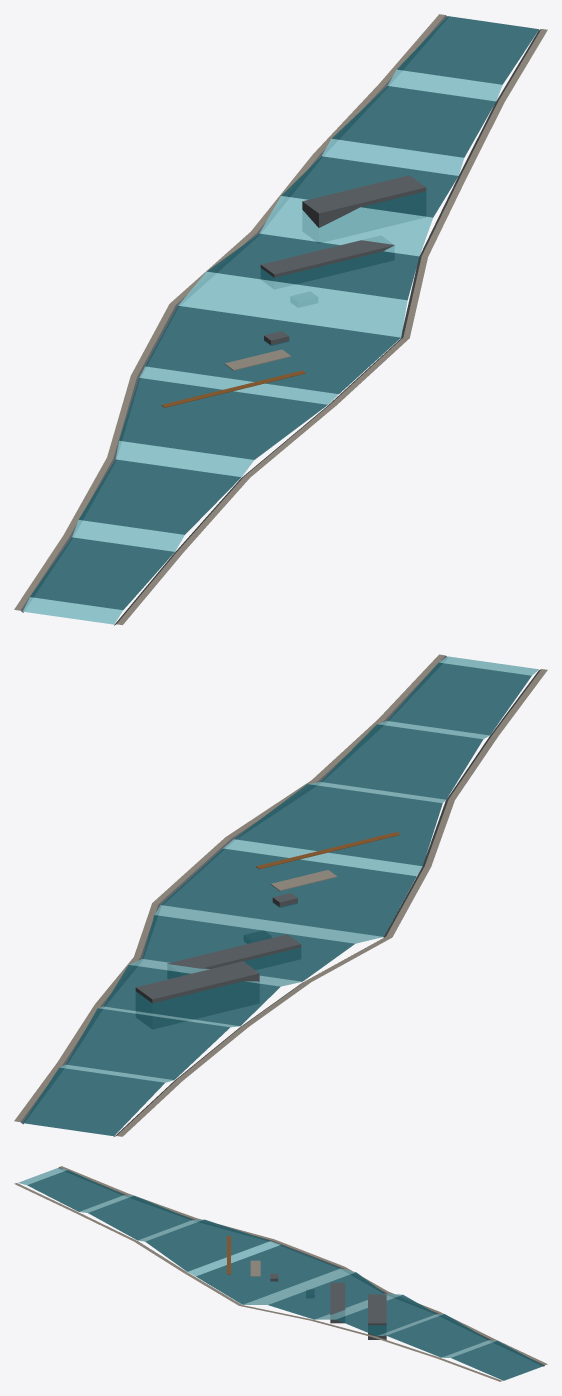
The model's file is water_thac_bao_dai_ta_in.glb.
The picture shows the model from 3 angles, top to bottom: view 1: azimuth 30°, elevation 25°; view 2: azimuth 210°, elevation 25°; view 3: azimuth 270°, elevation 25°; orthographic projection. The views are drawn at different scales.
Parts seen in each view (by area): view 1: water_terraces_water_thac_bao_dai_ta_in, waterfall_curtain_water_thac_bao_dai_ta_in, canyon_walkway_water_thac_bao_dai_ta_in, bao_dai_three_tier_basalt_waterfall_cliff, basalt_canyon_embankments_water_thac_bao_dai_ta_in, bao_dai_middle_amphitheater_stone_ledge; view 2: water_terraces_water_thac_bao_dai_ta_in, waterfall_curtain_water_thac_bao_dai_ta_in, canyon_walkway_water_thac_bao_dai_ta_in, bao_dai_three_tier_basalt_waterfall_cliff, bao_dai_middle_amphitheater_stone_ledge, basalt_canyon_embankments_water_thac_bao_dai_ta_in, ta_in_canyon_suspension_wooden_footbridge, bao_dai_historic_royal_stone_promenade; view 3: water_terraces_water_thac_bao_dai_ta_in, waterfall_curtain_water_thac_bao_dai_ta_in, canyon_walkway_water_thac_bao_dai_ta_in, bao_dai_three_tier_basalt_waterfall_cliff, bao_dai_middle_amphitheater_stone_ledge, basalt_canyon_embankments_water_thac_bao_dai_ta_in.
Boxes of the visible parts, bbox=[...] form: water_terraces_water_thac_bao_dai_ta_in: bbox=[30, 16, 538, 609]; waterfall_curtain_water_thac_bao_dai_ta_in: bbox=[23, 69, 502, 624]; canyon_walkway_water_thac_bao_dai_ta_in: bbox=[14, 14, 547, 625]; bao_dai_three_tier_basalt_waterfall_cliff: bbox=[302, 175, 426, 228]; basalt_canyon_embankments_water_thac_bao_dai_ta_in: bbox=[20, 15, 541, 625]; bao_dai_middle_amphitheater_stone_ledge: bbox=[260, 240, 394, 277]; water_terraces_water_thac_bao_dai_ta_in: bbox=[23, 662, 531, 1136]; waterfall_curtain_water_thac_bao_dai_ta_in: bbox=[59, 656, 538, 1082]; canyon_walkway_water_thac_bao_dai_ta_in: bbox=[14, 654, 547, 1136]; bao_dai_three_tier_basalt_waterfall_cliff: bbox=[135, 961, 259, 1003]; bao_dai_middle_amphitheater_stone_ledge: bbox=[167, 934, 301, 968]; basalt_canyon_embankments_water_thac_bao_dai_ta_in: bbox=[20, 655, 540, 1136]; ta_in_canyon_suspension_wooden_footbridge: bbox=[256, 832, 400, 869]; bao_dai_historic_royal_stone_promenade: bbox=[270, 870, 337, 890]; water_terraces_water_thac_bao_dai_ta_in: bbox=[27, 1170, 543, 1380]; waterfall_curtain_water_thac_bao_dai_ta_in: bbox=[18, 1168, 496, 1357]; canyon_walkway_water_thac_bao_dai_ta_in: bbox=[14, 1166, 547, 1381]; bao_dai_three_tier_basalt_waterfall_cliff: bbox=[368, 1294, 386, 1339]; bao_dai_middle_amphitheater_stone_ledge: bbox=[330, 1282, 345, 1323]; basalt_canyon_embankments_water_thac_bao_dai_ta_in: bbox=[58, 1167, 544, 1366].
Bounding box in the file's own units: 710 × 48.45 × 637.
